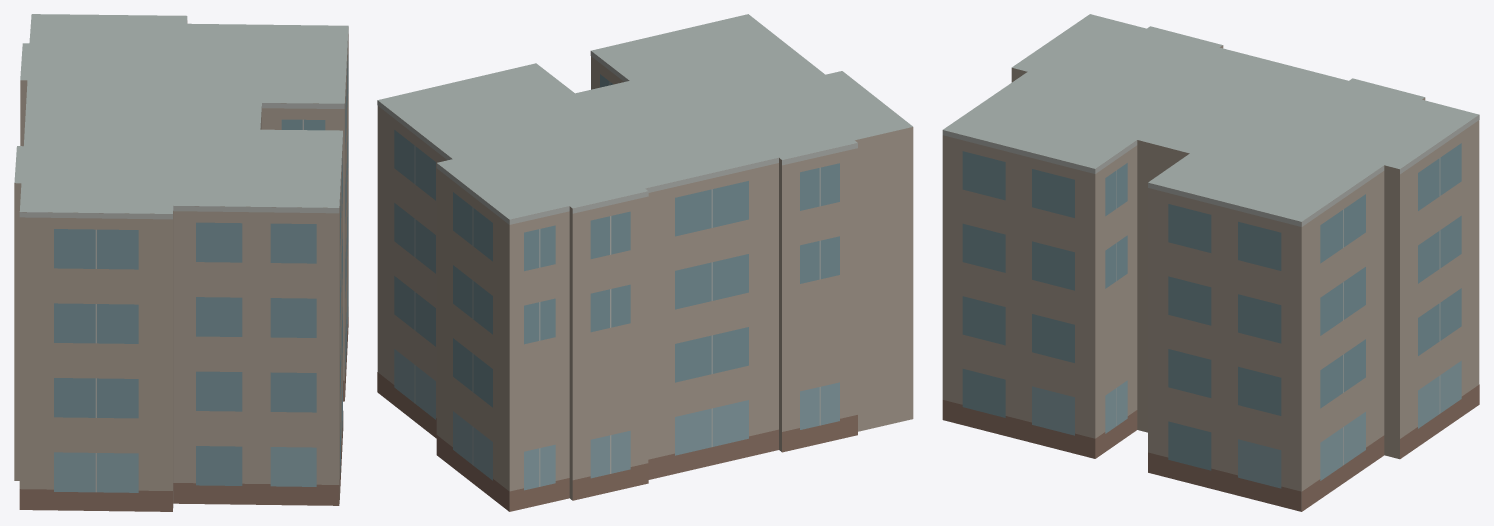
File: survey-upis-32678897.glb
The picture shows the model from 3 angles, left to right: view 1: azimuth 30°, elevation 25°; view 2: azimuth 150°, elevation 25°; view 3: azimuth 270°, elevation 25°; orthographic projection. The views are drawn at different scales.
Parts seen in each view (by area): view 1: survey-upis-32678897.tmp; view 2: survey-upis-32678897.tmp; view 3: survey-upis-32678897.tmp.
Part boxes in pixels (bbox=[...]): survey-upis-32678897.tmp: bbox=[14, 14, 348, 511]; survey-upis-32678897.tmp: bbox=[377, 14, 913, 511]; survey-upis-32678897.tmp: bbox=[942, 14, 1479, 511].
Size of the model in its own units: 20.76 by 13.5 by 22.66.
